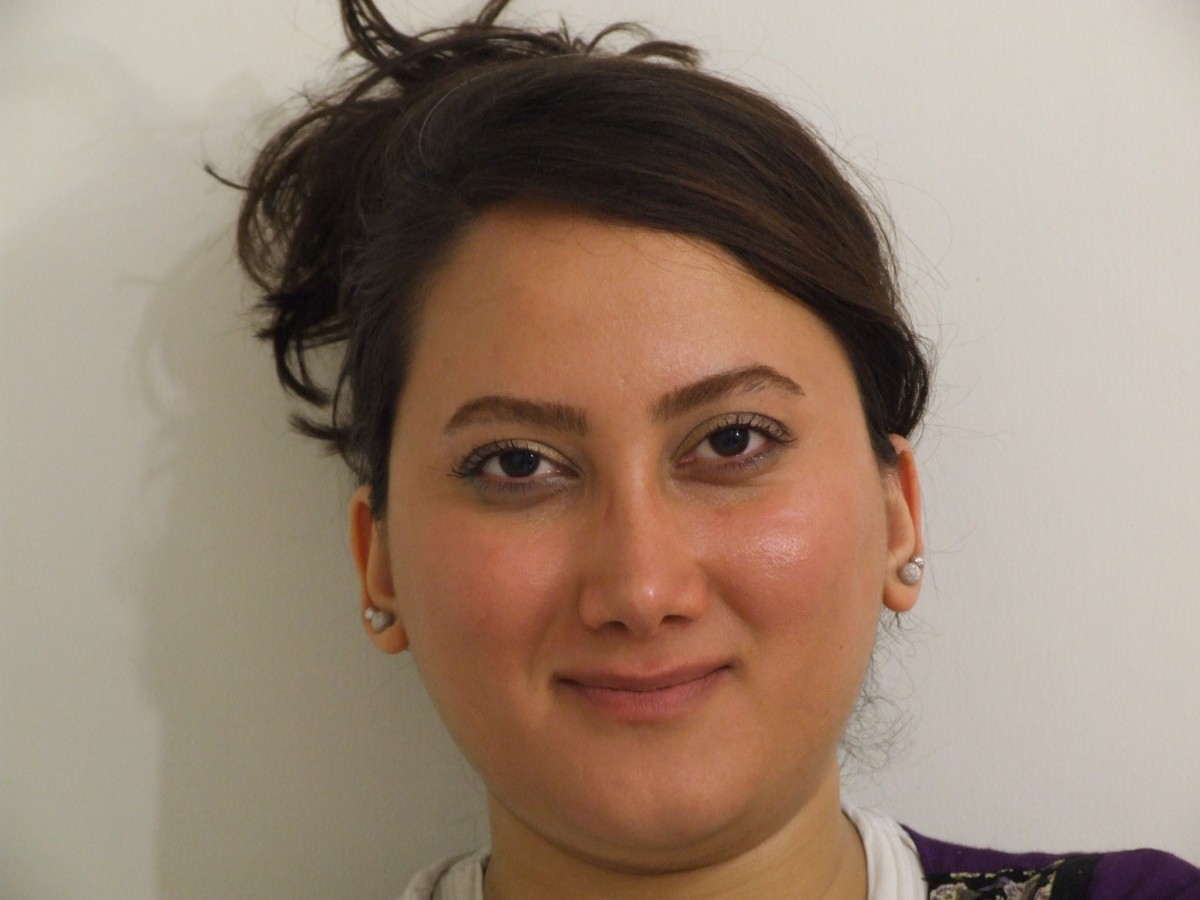neo: (833, 636, 857, 657)
occhiaia: (656, 446, 822, 515), (432, 476, 610, 540)
